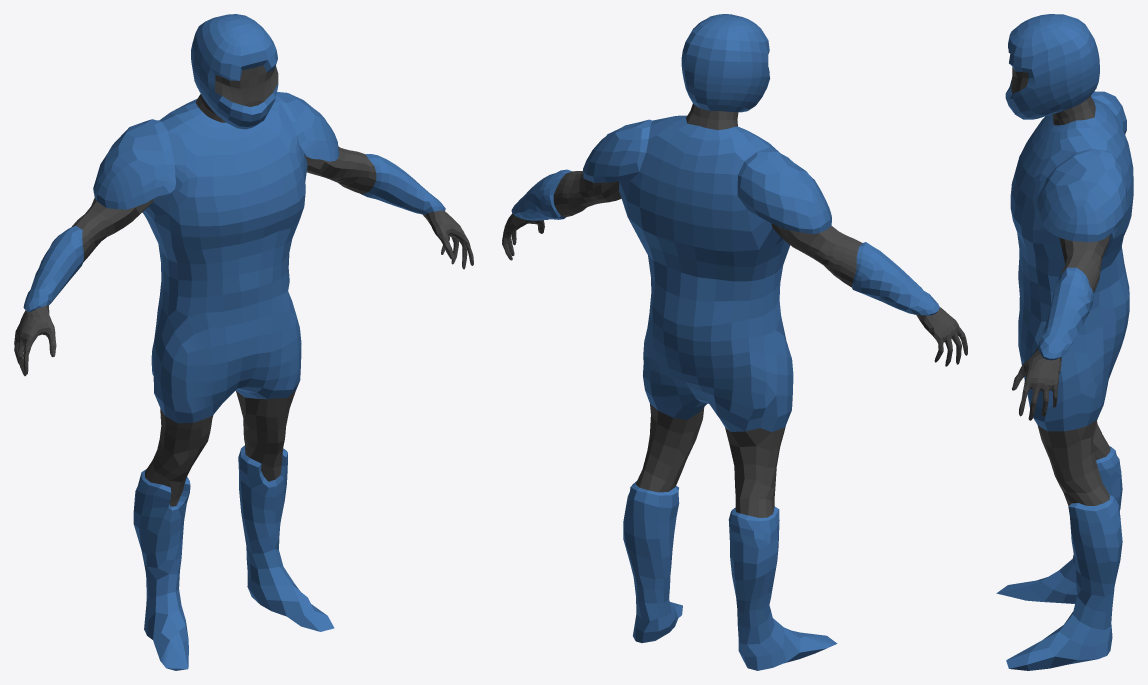
Rendered from man.fbx.
3 views of the same model, side by side, from view 1: azimuth 30°, elevation 25°; view 2: azimuth 150°, elevation 25°; view 3: azimuth 270°, elevation 25° (orthographic).
Parts seen in each view (by area): view 1: Man___Character; view 2: Man___Character; view 3: Man___Character.
Part boxes in pixels (left/top/right/bottom): Man___Character: left=14, top=14, right=473, bottom=670; Man___Character: left=502, top=14, right=967, bottom=670; Man___Character: left=996, top=14, right=1133, bottom=670.
Bounding box in the file's own units: 502 × 657 × 133.
Materials: 1 (1 with a texture image).
